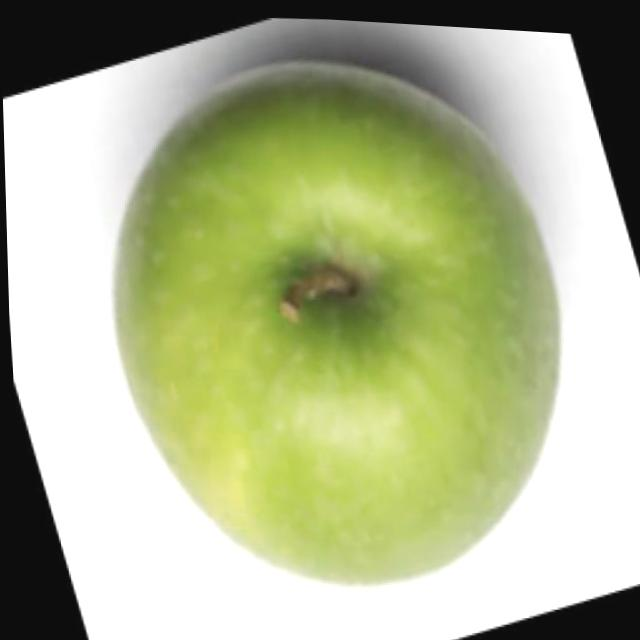Apple: (95, 36, 576, 602)
